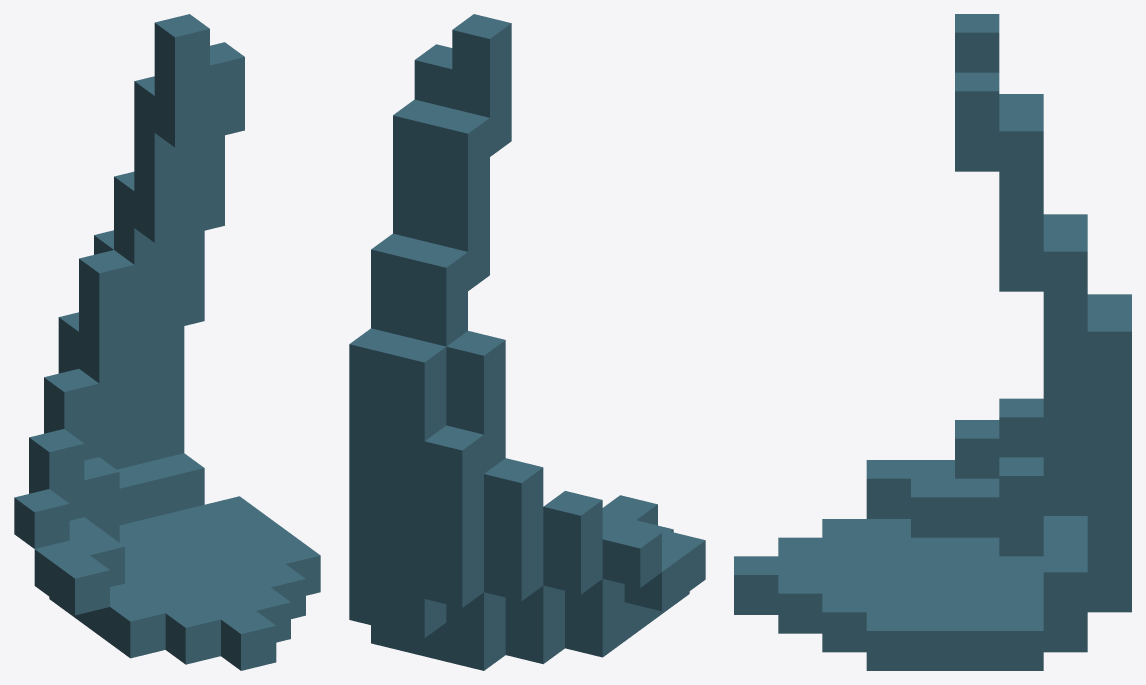
Rendered from vase-0-4.obj.
3 views of the same model, side by side, from view 1: azimuth 30°, elevation 25°; view 2: azimuth 150°, elevation 25°; view 3: azimuth 270°, elevation 25° (orthographic). The views are drawn at different scales.
Visible parts, largest first — view 1: 4; view 2: 4; view 3: 4.
Boxes of the visible parts, x1,y1,x2,y2 form: 4: (14,14,320,670); 4: (349,14,705,670); 4: (734,14,1131,670).
Size of the model in its own units: 0.7 by 1.5 by 0.9.
1 material, 1 textured.
